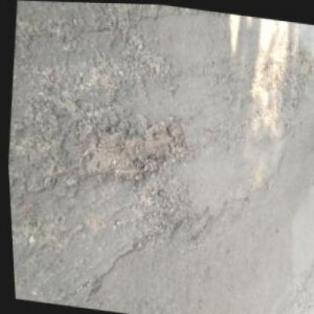Hueco: (75, 100, 191, 192), (139, 184, 186, 236)
